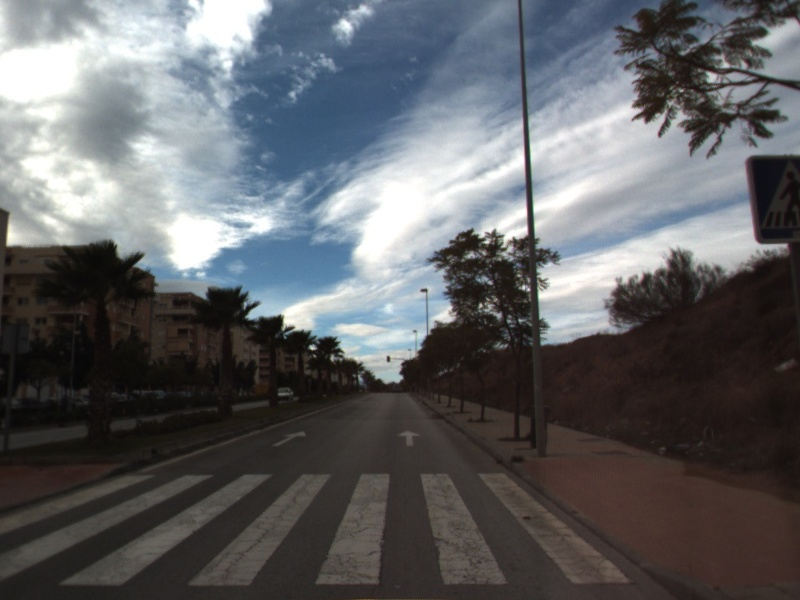STRAIGHT: (269, 429, 308, 449), (396, 428, 423, 448)
